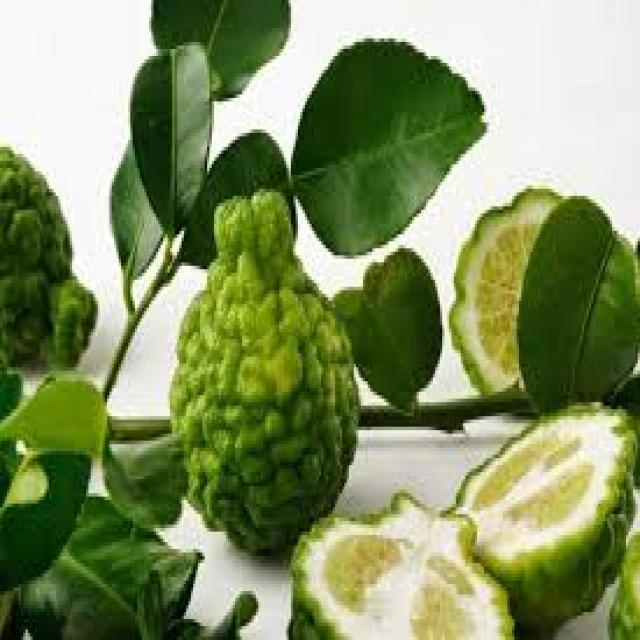Chuc: (168, 185, 360, 552), (452, 399, 636, 626), (286, 486, 514, 637), (447, 182, 563, 399), (0, 140, 98, 371)
